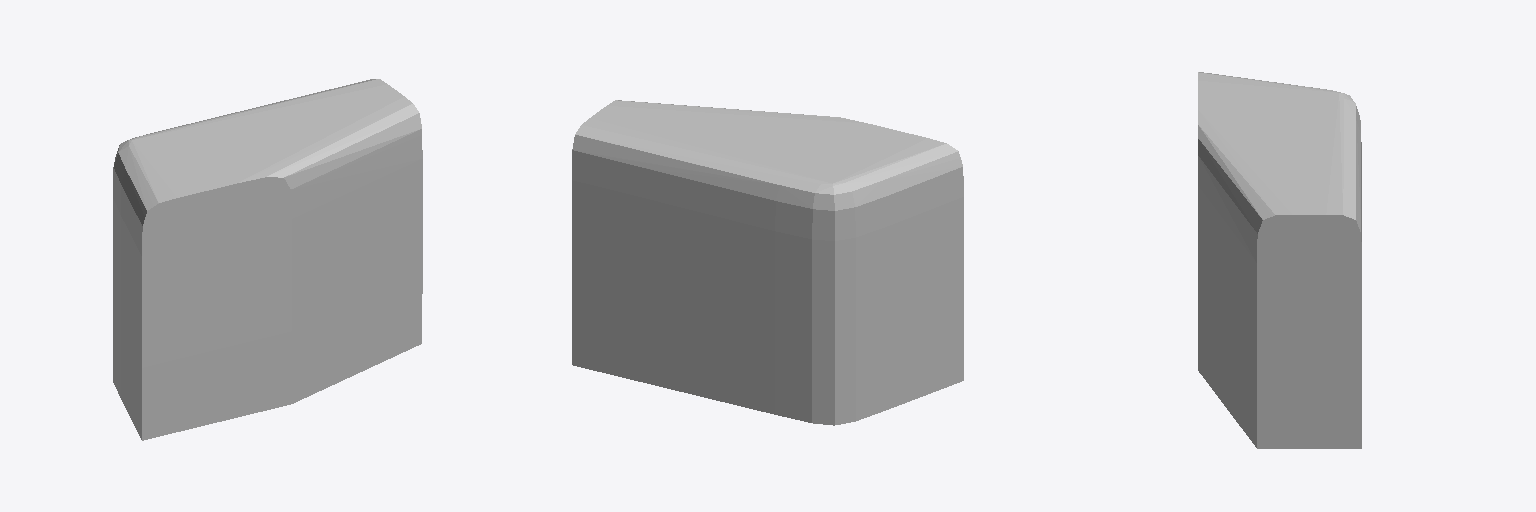
File: pentagon_collision_27.obj
3 views of the same model, side by side, from view 1: azimuth 30°, elevation 25°; view 2: azimuth 150°, elevation 25°; view 3: azimuth 270°, elevation 25° (orthographic).
Bounding box in the file's own units: 0.0066 × 0.0048 × 0.003.